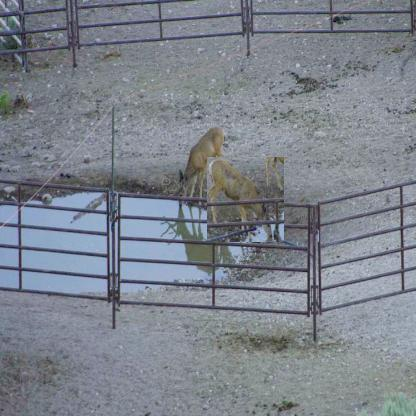Deer: (207, 157, 284, 242), (162, 125, 226, 208)
